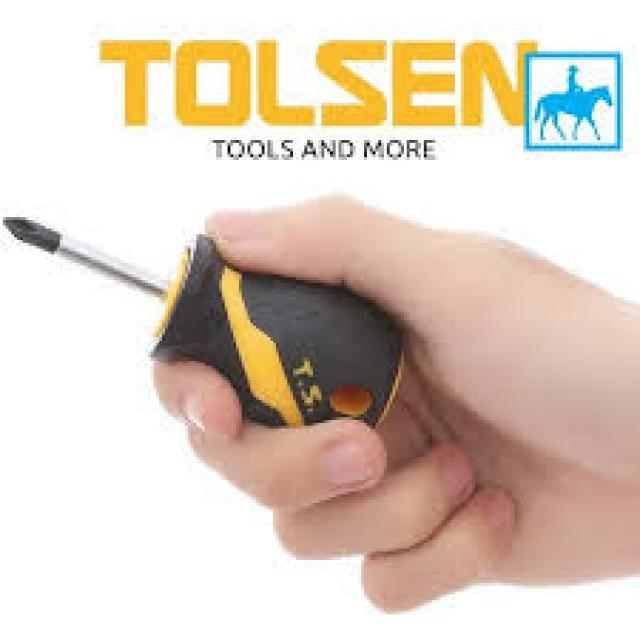screwdriver: (0, 209, 407, 457)
